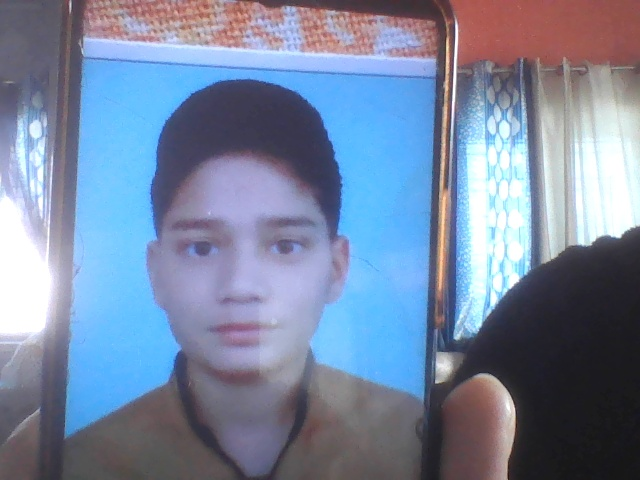fake: (133, 79, 364, 407)
